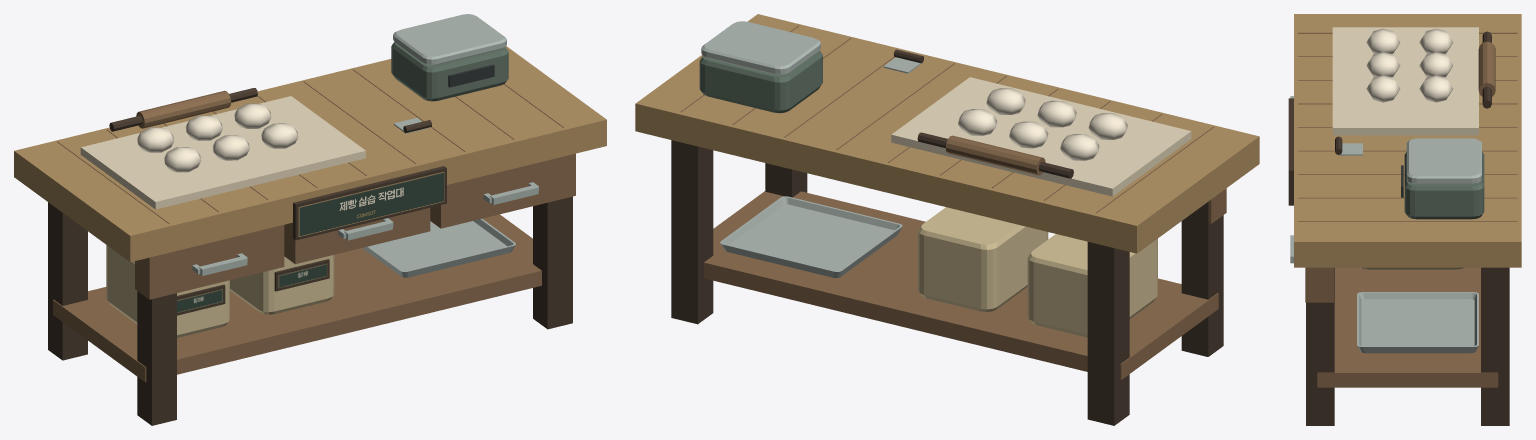
The model's file is 04_Bakery_Workbench.fbx.
3 views of the same model, side by side, from view 1: azimuth 30°, elevation 25°; view 2: azimuth 150°, elevation 25°; view 3: azimuth 270°, elevation 25° (orthographic). The views are drawn at different scales.
Visible parts, largest first — view 1: 04_Bakery_Workbench__Structure; view 2: 04_Bakery_Workbench__Structure; view 3: 04_Bakery_Workbench__Structure.
Part boxes in pixels (left/top/right/bottom): 04_Bakery_Workbench__Structure: left=14, top=14, right=606, bottom=425; 04_Bakery_Workbench__Structure: left=635, top=14, right=1259, bottom=425; 04_Bakery_Workbench__Structure: left=1288, top=14, right=1521, bottom=425.
Size of the model in its own units: 265 by 132 by 115.
Materials: 2 (2 with a texture image).
